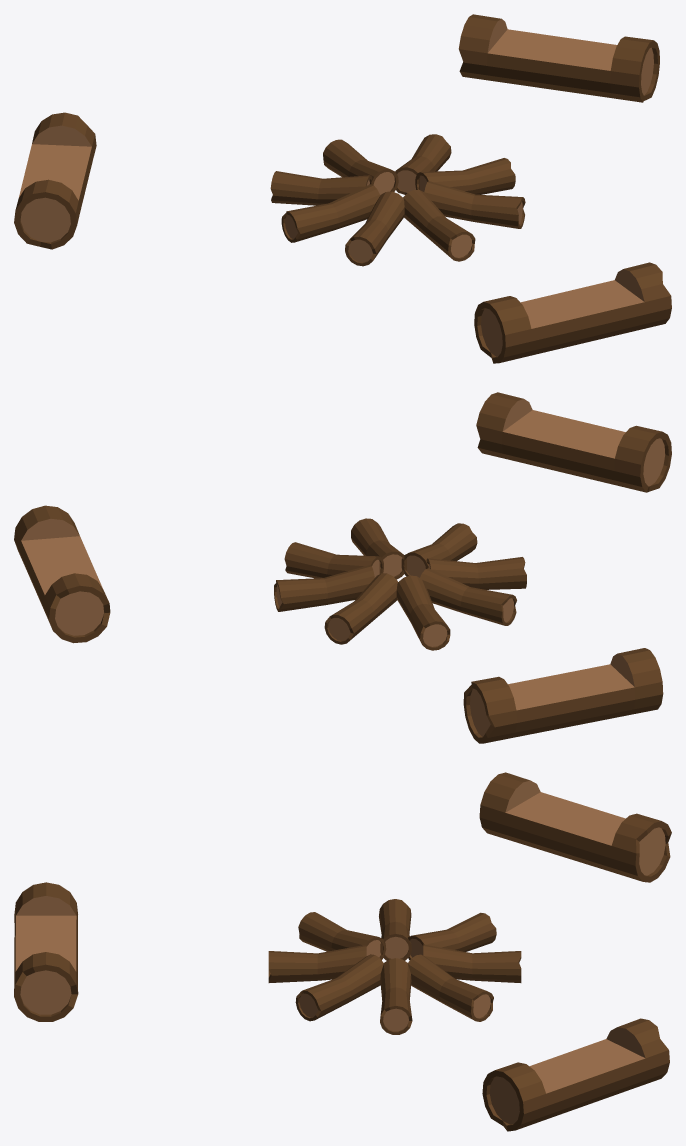
The model's file is Hoguera_sin_anim.fbx.
3 renders of one model, top to bottom at view 1: azimuth 30°, elevation 25°; view 2: azimuth 150°, elevation 25°; view 3: azimuth 270°, elevation 25°, orthographic.
Visible parts, largest first — view 1: Tronco_Sentarse.002, Tronco_Sentarse, Tronco_Sentarse.001, Tronco_Fuego1.003, Tronco_Fuego1.004, Tronco_Fuego1, Tronco_Fuego1.006, Tronco_Fuego1.007, Tronco_Fuego1.001, Tronco_Fuego1.002, Tronco_Fuego1.005; view 2: Tronco_Sentarse.001, Tronco_Sentarse, Tronco_Sentarse.002, Tronco_Fuego1.005, Tronco_Fuego1.003, Tronco_Fuego1.002, Tronco_Fuego1.007, Tronco_Fuego1.006, Tronco_Fuego1.001, Tronco_Fuego1, Tronco_Fuego1.004; view 3: Tronco_Sentarse.001, Tronco_Sentarse.002, Tronco_Sentarse, Tronco_Fuego1.004, Tronco_Fuego1.005, Tronco_Fuego1, Tronco_Fuego1.002, Tronco_Fuego1.001, Tronco_Fuego1.006, Tronco_Fuego1.007, Tronco_Fuego1.003.
Boxes of the visible parts, <box> form: Tronco_Sentarse.002: <box>458,14,659,102</box>; Tronco_Sentarse: <box>474,262,671,363</box>; Tronco_Sentarse.001: <box>14,112,96,249</box>; Tronco_Fuego1.003: <box>281,184,379,242</box>; Tronco_Fuego1.004: <box>424,181,525,228</box>; Tronco_Fuego1: <box>403,189,475,261</box>; Tronco_Fuego1.006: <box>270,171,372,205</box>; Tronco_Fuego1.007: <box>345,191,404,266</box>; Tronco_Fuego1.001: <box>415,158,515,194</box>; Tronco_Fuego1.002: <box>323,139,398,195</box>; Tronco_Fuego1.005: <box>395,134,451,194</box>; Tronco_Sentarse.001: <box>463,648,663,743</box>; Tronco_Sentarse: <box>476,392,671,492</box>; Tronco_Sentarse.002: <box>14,505,110,643</box>; Tronco_Fuego1.005: <box>274,565,374,611</box>; Tronco_Fuego1.003: <box>420,568,516,625</box>; Tronco_Fuego1.002: <box>324,573,398,644</box>; Tronco_Fuego1.007: <box>426,557,526,589</box>; Tronco_Fuego1.006: <box>396,575,450,650</box>; Tronco_Fuego1.001: <box>284,542,383,578</box>; Tronco_Fuego1: <box>401,523,477,577</box>; Tronco_Fuego1.004: <box>351,518,406,579</box>; Tronco_Sentarse.001: <box>479,772,671,882</box>; Tronco_Sentarse.002: <box>482,1018,669,1131</box>; Tronco_Sentarse: <box>14,882,78,1021</box>; Tronco_Fuego1.004: <box>295,954,383,1021</box>; Tronco_Fuego1.005: <box>407,954,493,1021</box>; Tronco_Fuego1: <box>268,944,366,982</box>; Tronco_Fuego1.002: <box>423,944,521,982</box>; Tronco_Fuego1.001: <box>380,958,412,1034</box>; Tronco_Fuego1.006: <box>408,912,496,960</box>; Tronco_Fuego1.007: <box>298,912,386,960</box>; Tronco_Fuego1.003: <box>379,899,411,960</box>.
Bounding box in the file's own units: 351 × 30.53 × 307.
